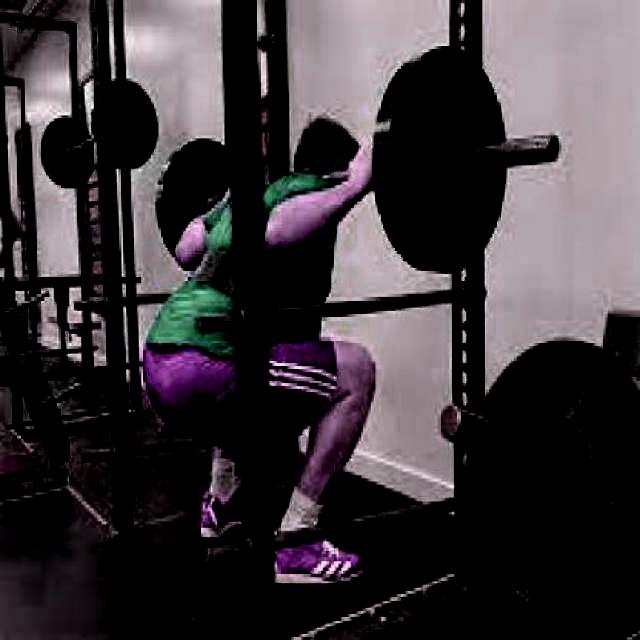barbell: (372, 39, 517, 280)
